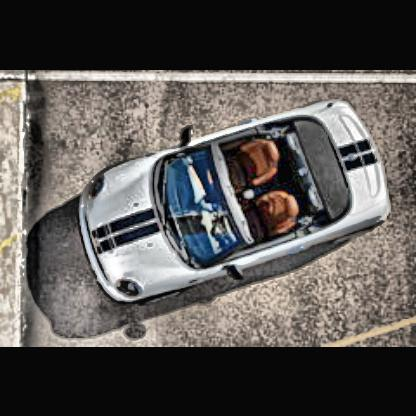MINI Cooper Roadster Convertible 2012: (77, 101, 397, 303)
